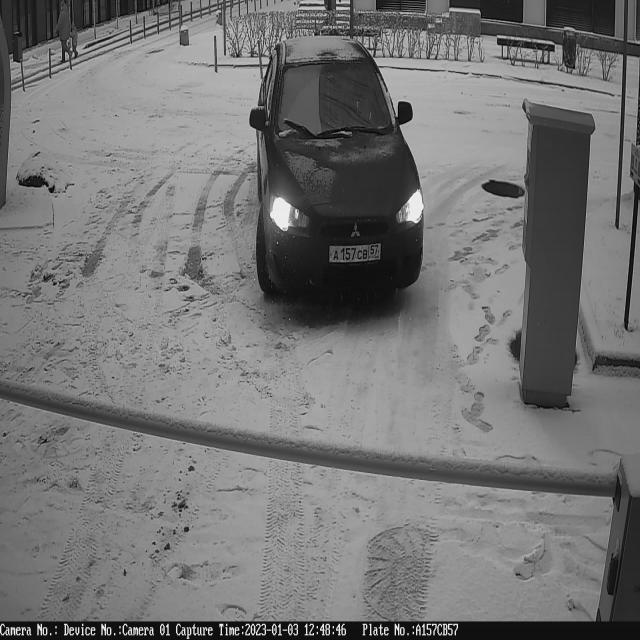car-plate-numbers: (328, 240, 384, 270)
